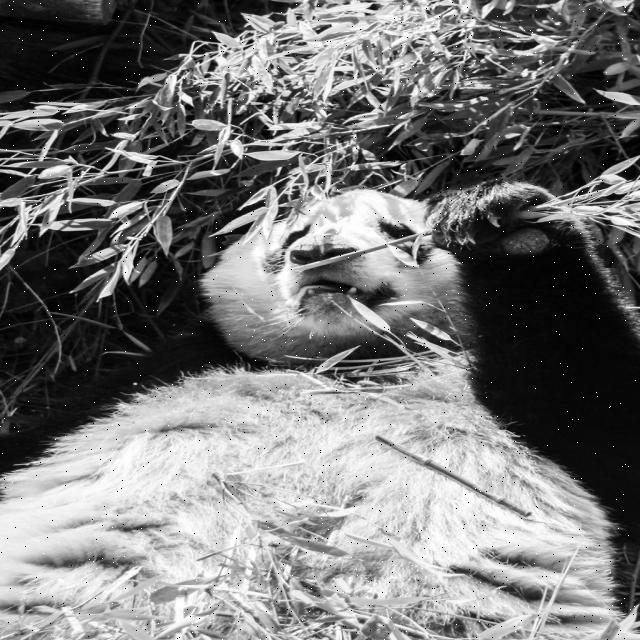panda: (0, 158, 639, 639)
